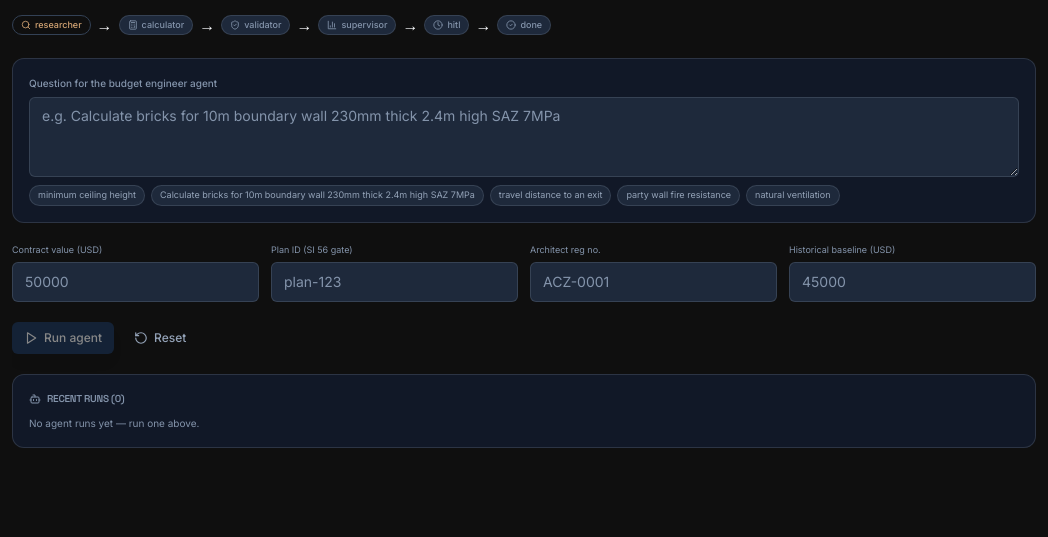
Test: AgentRunnerPanel › surfaces a run error
Replace the text in the text box with test id "agent-query" with "something": (524, 137) [29,97,1019,177]
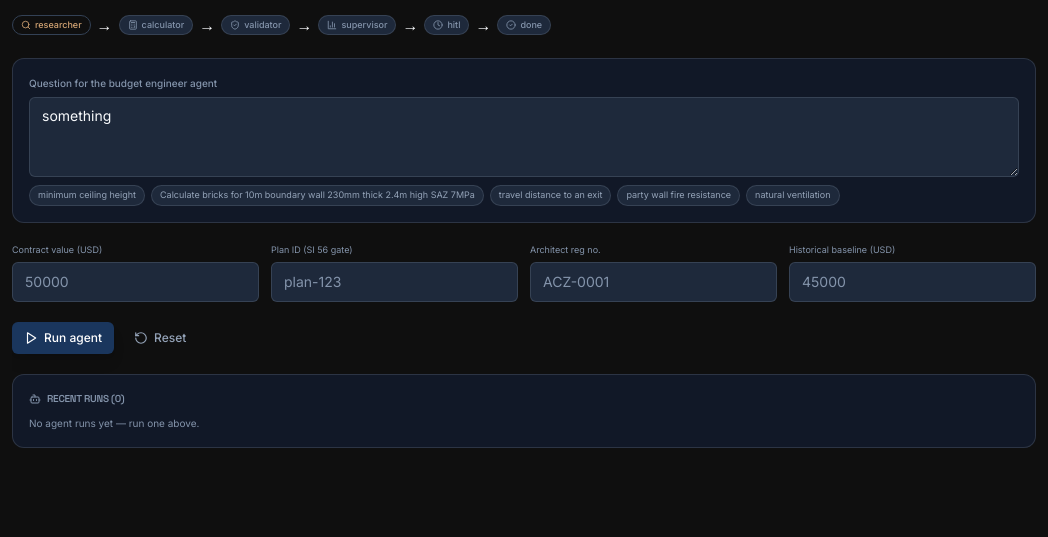
Click the button "Run agent": (63, 338) [12,322,114,354]
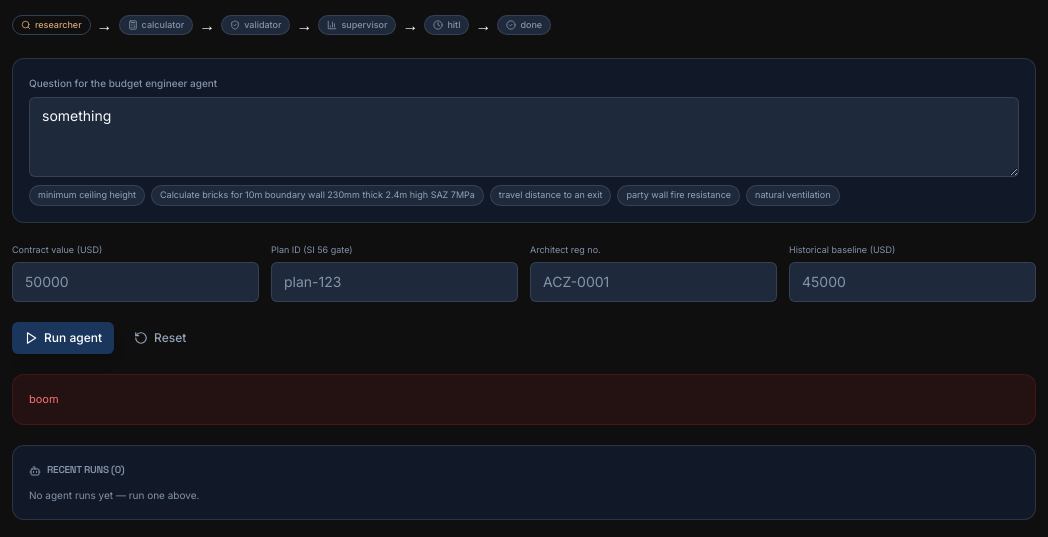
Now the text "boom" is shown, box [12,374,1036,425]
